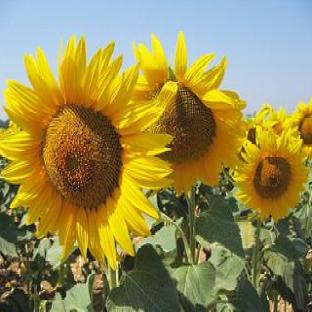sunflower: (0, 35, 178, 290)
